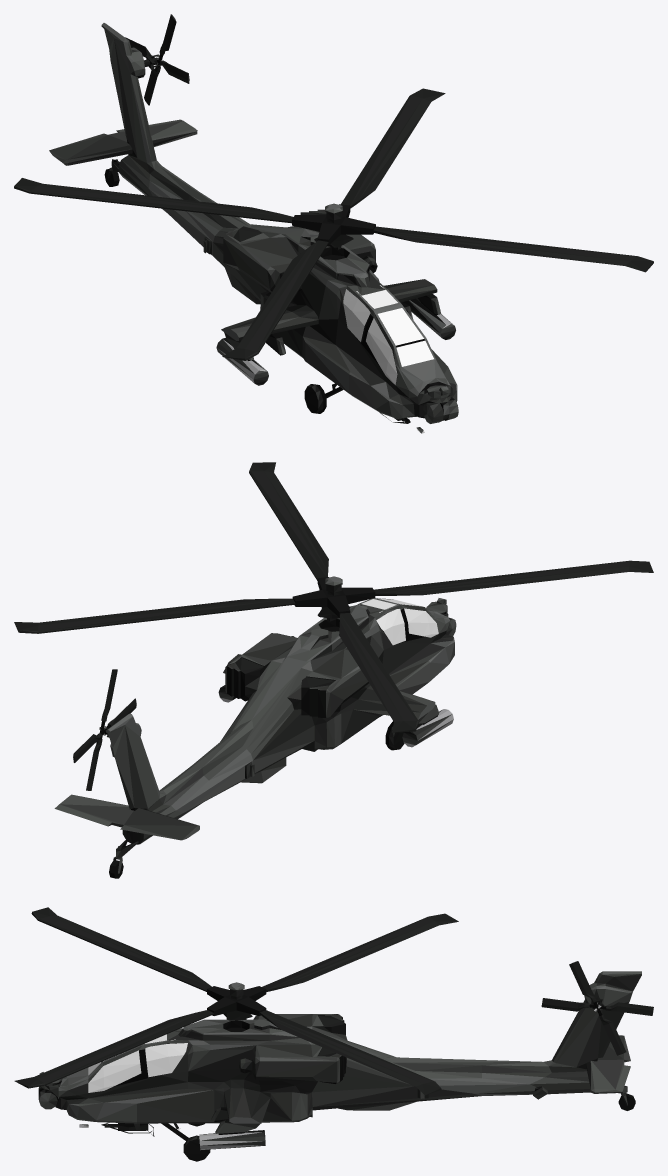
The model's file is pmc_strike_heli.obj.
The picture shows the model from 3 angles, top to bottom: view 1: azimuth 30°, elevation 25°; view 2: azimuth 150°, elevation 25°; view 3: azimuth 270°, elevation 25°; orthographic projection. The views are drawn at different scales.
Visible parts, largest first — view 1: pmc_strike_heli; view 2: pmc_strike_heli; view 3: pmc_strike_heli.
Part boxes in pixels (box(x1,y1,x2,y2)): pmc_strike_heli: box(14, 14, 653, 433); pmc_strike_heli: box(14, 462, 653, 878); pmc_strike_heli: box(14, 907, 653, 1161).
Size of the model in its own units: 11.17 by 5.43 by 16.06.
Materials: 1 (1 with a texture image).
